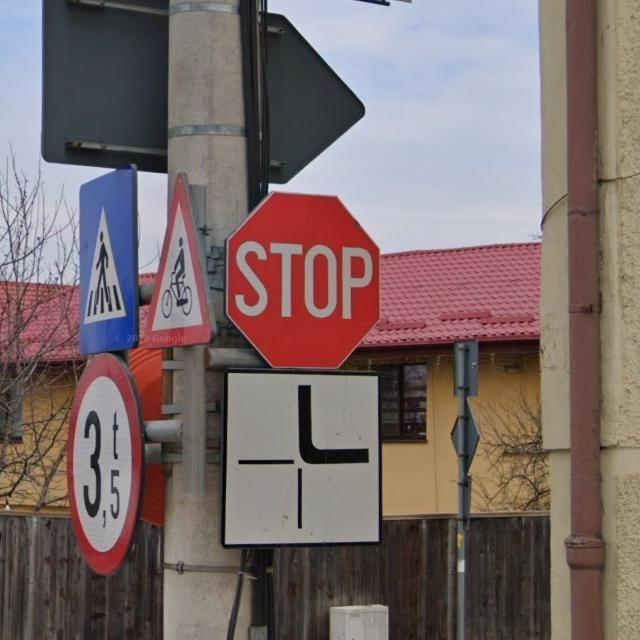info_crosswalk: (75, 162, 141, 352)
prio_stop: (223, 190, 382, 370)
